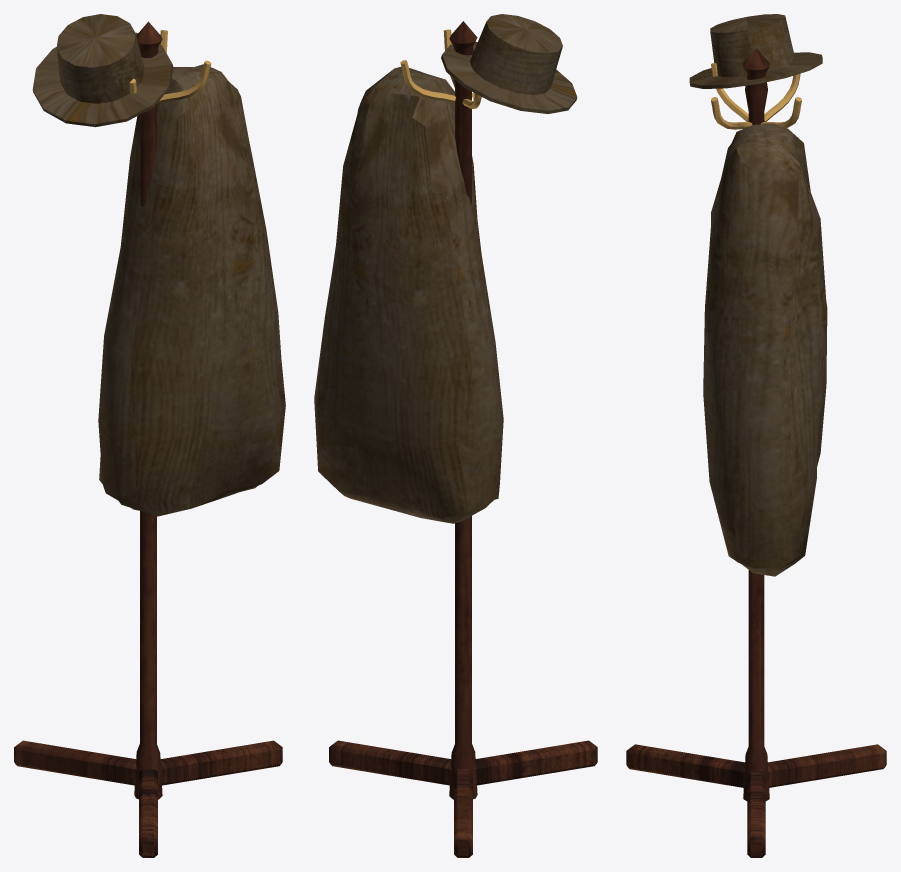
The model's file is CoatStand.fbx.
3 views of the same model, side by side, from view 1: azimuth 30°, elevation 25°; view 2: azimuth 150°, elevation 25°; view 3: azimuth 270°, elevation 25° (orthographic). The views are drawn at different scales.
Parts seen in each view (by area): view 1: CoatStand; view 2: CoatStand; view 3: CoatStand.
Part boxes in pixels (x1,y1,x2,y2): CoatStand: [14, 14, 285, 857]; CoatStand: [314, 14, 597, 857]; CoatStand: [626, 14, 886, 857].
Size of the model in its own units: 0.5965 by 1.82 by 0.5663.
